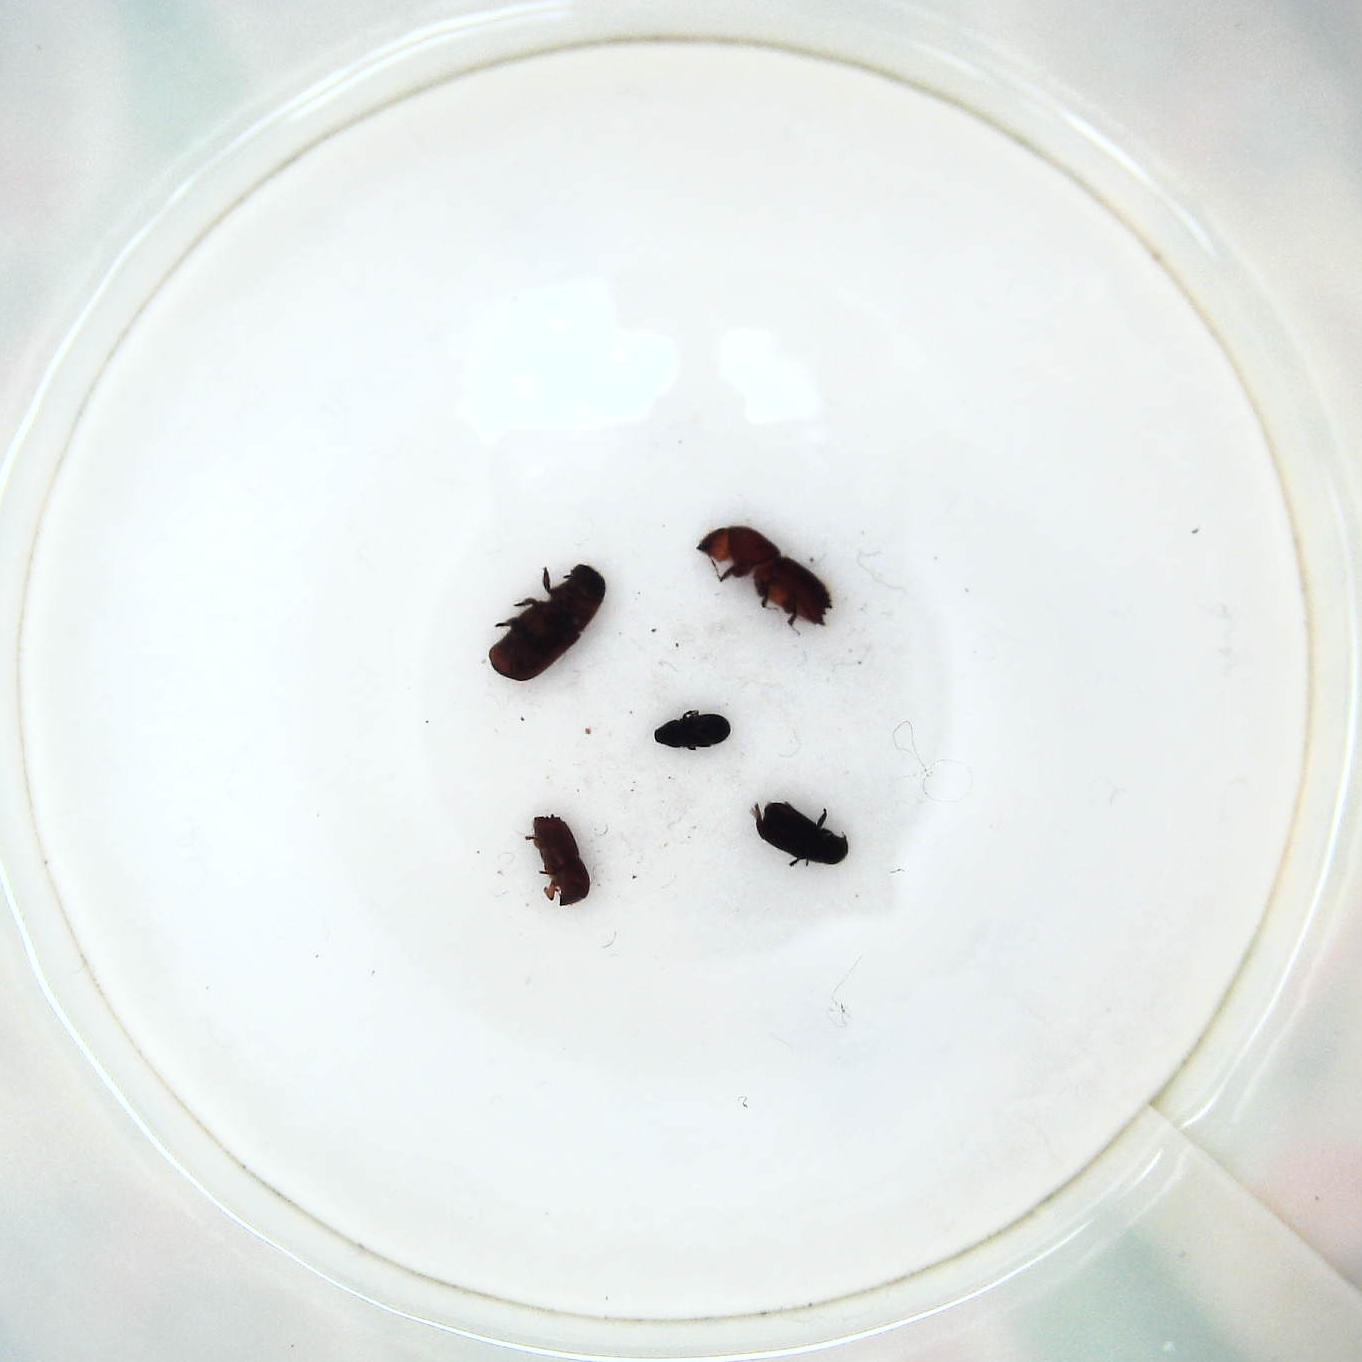Boerner: (697, 519, 836, 639)
Leconte: (485, 561, 614, 685)
armandi: (743, 792, 849, 873)
coleoptera: (650, 707, 733, 761)
linnaeus: (524, 807, 597, 912)
